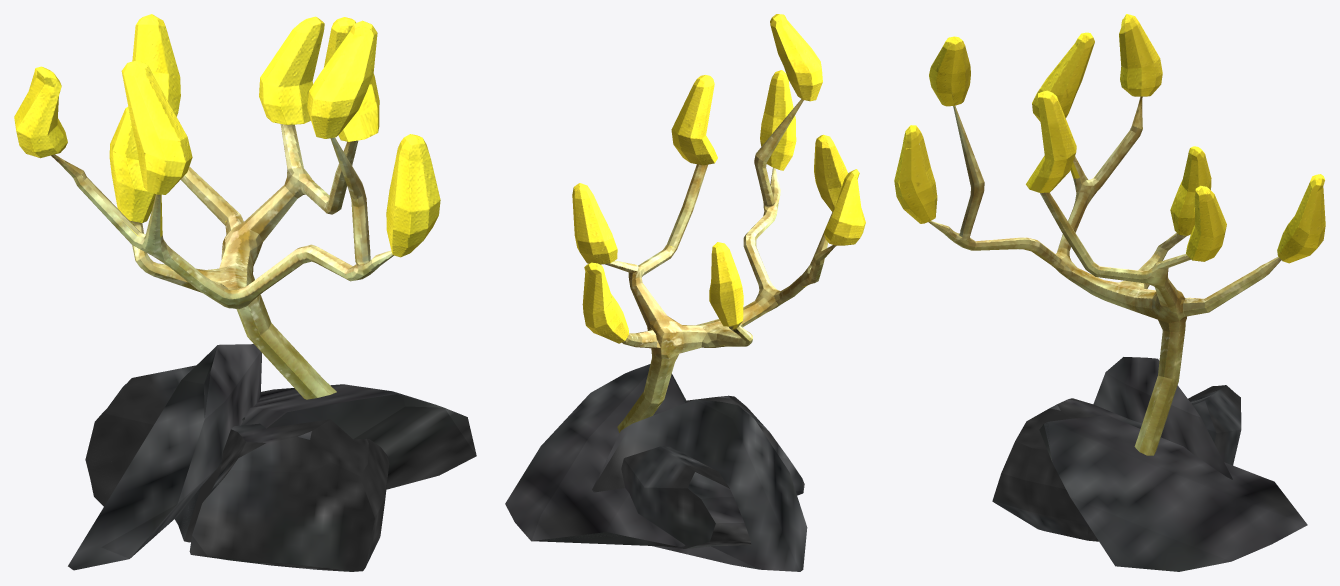
The model's file is Mushroom01.glb.
3 views of the same model, side by side, from view 1: azimuth 30°, elevation 25°; view 2: azimuth 150°, elevation 25°; view 3: azimuth 270°, elevation 25° (orthographic). The views are drawn at different scales.
Parts seen in each view (by area): view 1: Cube.002, Torus.009_cell.005, Torus.009_cell.007, Torus.009_cell.008, Torus.009_cell.006; view 2: Cube.002, Torus.009_cell.007, Torus.009_cell.008, Torus.009_cell.006, Torus.009_cell.005; view 3: Cube.002, Torus.009_cell.008, Torus.009_cell.005, Torus.009_cell.007, Torus.009_cell.006.
Boxes of the visible parts, x1,y1,x2,y2 form: Cube.002: (14, 14, 440, 399); Torus.009_cell.005: (189, 419, 389, 571); Torus.009_cell.007: (68, 344, 261, 570); Torus.009_cell.008: (174, 384, 476, 542); Torus.009_cell.006: (85, 365, 244, 506); Cube.002: (572, 14, 865, 432); Torus.009_cell.007: (592, 399, 807, 571); Torus.009_cell.008: (505, 364, 686, 546); Torus.009_cell.006: (621, 446, 751, 548); Torus.009_cell.005: (685, 395, 804, 495); Cube.002: (894, 14, 1325, 455); Torus.009_cell.008: (1039, 415, 1307, 571); Torus.009_cell.005: (992, 398, 1141, 541); Torus.009_cell.007: (1093, 357, 1232, 479); Torus.009_cell.006: (1169, 385, 1241, 465).
Size of what is drawn, in the model's own units: 1.36 by 1.79 by 1.44.
Materials: 2 (2 with a texture image).
